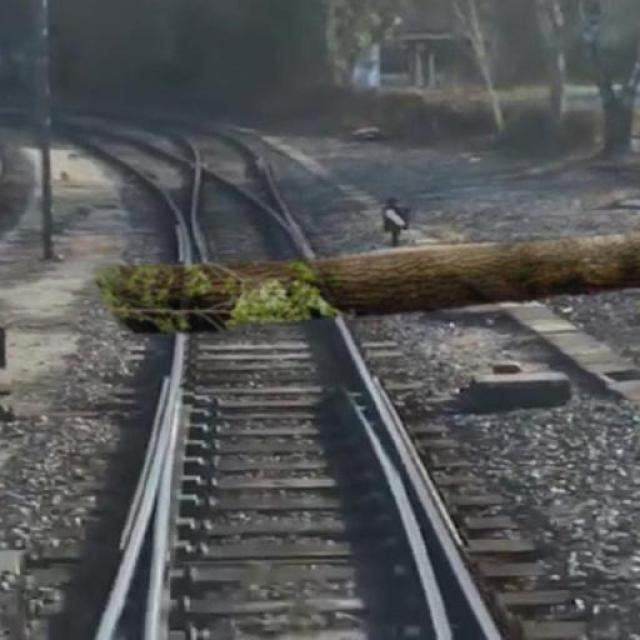Branches: (91, 225, 640, 349)
